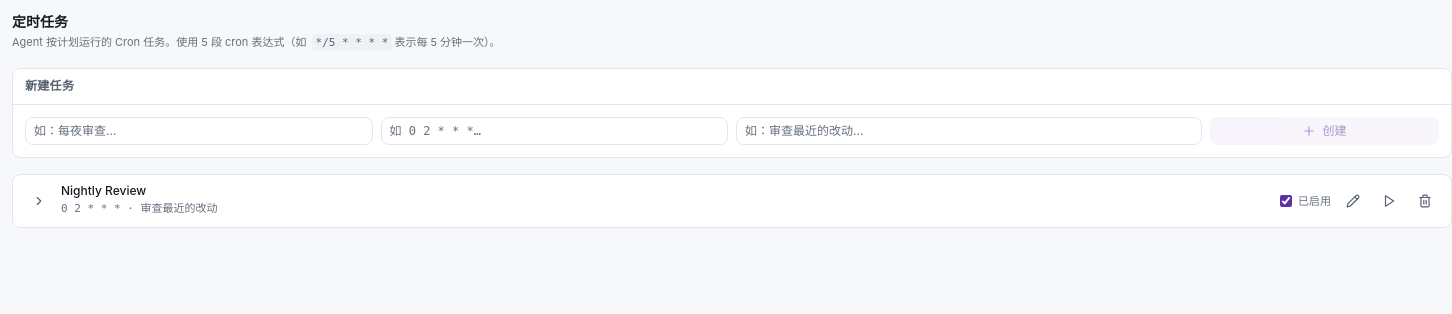
ScheduledTab editing (P2-5) › prefills the edit form with the job's current definition
expect the list item with test id "settings-job-row-job_1" is shown: met, box [12, 174, 1451, 228]
What coordinates should you click on to do the following:
click the button with test id "settings-job-edit-job_1"
I would click on:
 (1353, 200)
Its box is [1339, 186, 1367, 214].
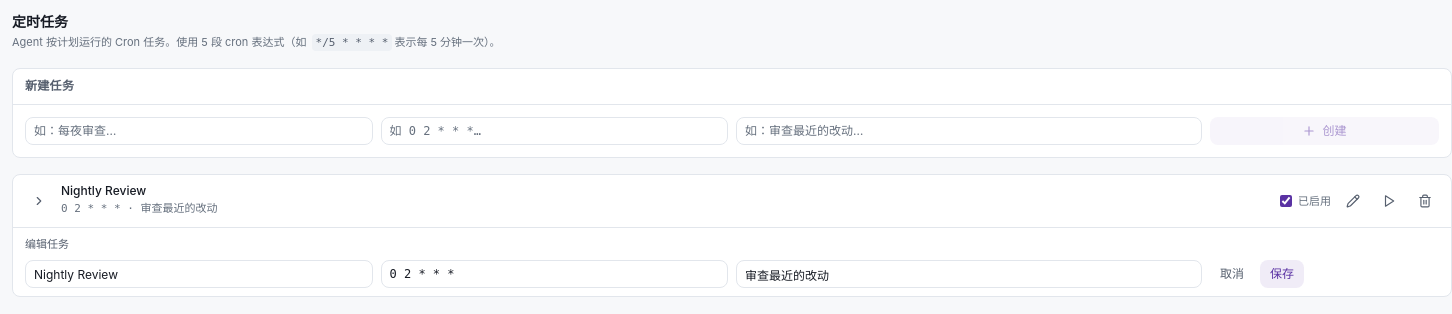
expect the element with test id "settings-job-edit-form-job_1" is shown: met, box [13, 226, 1451, 296]
expect the field with test id "settings-job-edit-name" holds "Nightly Review": met, box [25, 260, 372, 288]
expect the field with test id "settings-job-edit-cron" holds "0 2 * * *": met, box [380, 260, 728, 288]
